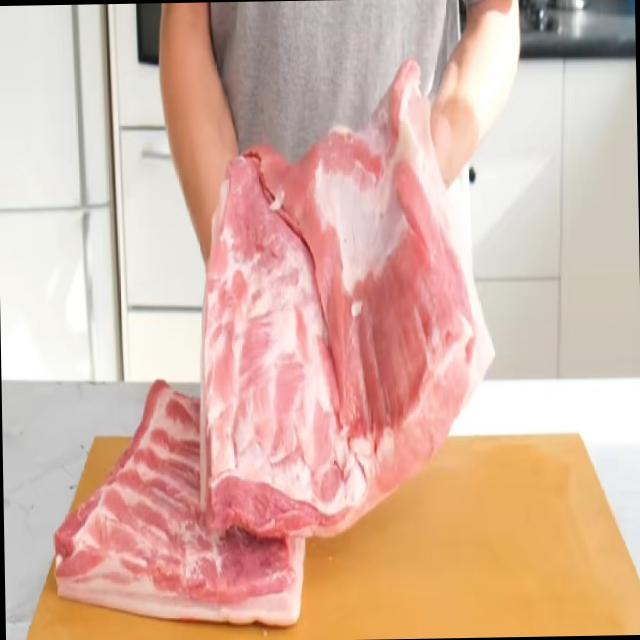pork: (188, 130, 482, 523), (66, 372, 314, 630)
